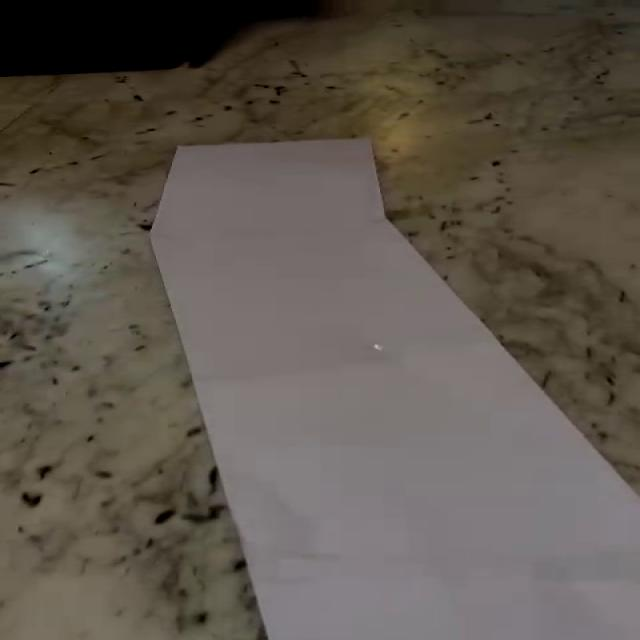road: (149, 135, 638, 640)
